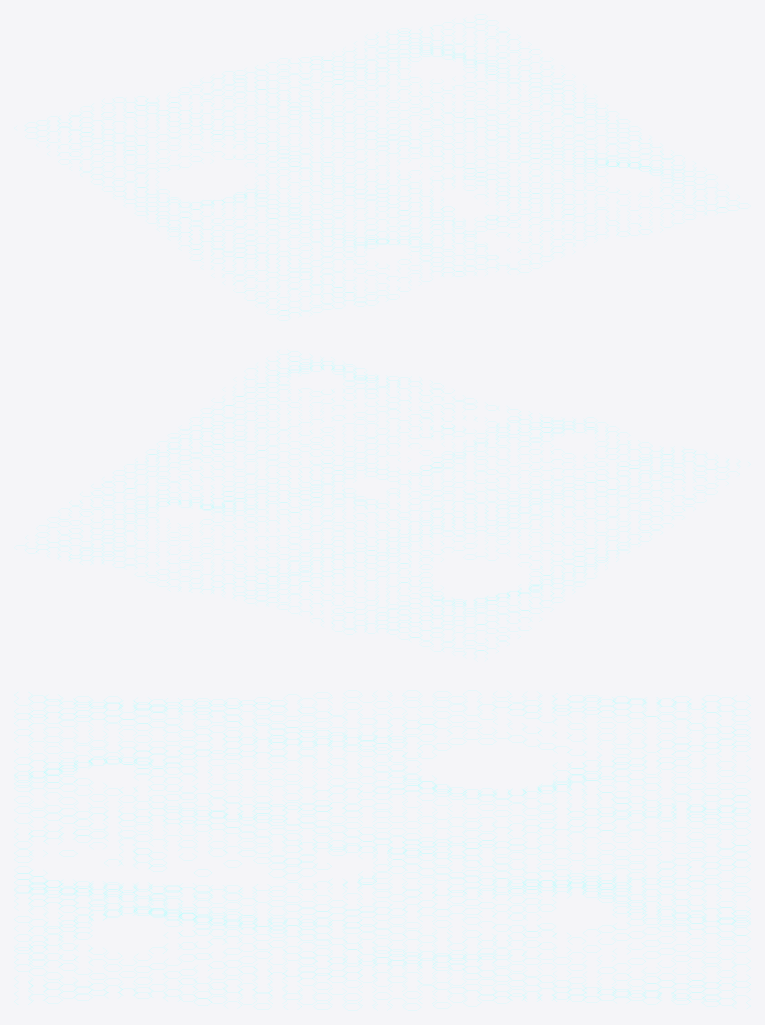
File: golden_expanse_nav.glb
3 views of the same model, one above another, from view 1: azimuth 30°, elevation 25°; view 2: azimuth 150°, elevation 25°; view 3: azimuth 270°, elevation 25° (orthographic). The views are drawn at different scales.
Parts seen in each view (by area): view 1: Movement outlines; view 2: Movement outlines; view 3: Movement outlines.
Part boxes in pixels (x1,y1,x2,y2): Movement outlines: [14, 14, 748, 320]; Movement outlines: [14, 351, 750, 659]; Movement outlines: [14, 690, 750, 1010].
Size of the model in its own units: 40.91 by 3.33 by 40.63.
